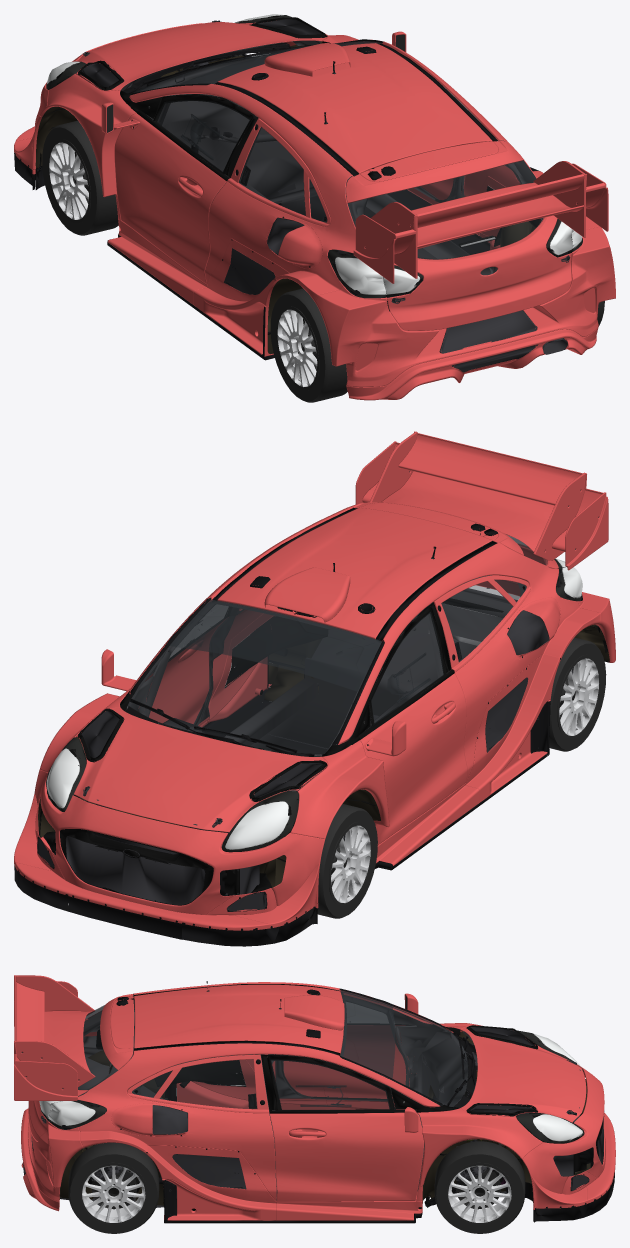
File: puma_rally1.glb
3 renders of one model, top to bottom at view 1: azimuth 30°, elevation 25°; view 2: azimuth 150°, elevation 25°; view 3: azimuth 270°, elevation 25°, orthographic. The views are drawn at different scales.
Parts seen in each view (by area): view 1: Body, Wheel_RL, Wheel_FL; view 2: Body, Wheel_FL, Wheel_RL; view 3: Body, Wheel_FR, Wheel_RR.
Boxes of the visible parts, left/top/right/bottom form: Body: left=14, top=14, right=615, bottom=400; Wheel_RL: left=270, top=288, right=347, bottom=402; Wheel_FL: left=42, top=120, right=118, bottom=235; Body: left=14, top=431, right=615, bottom=946; Wheel_FL: left=317, top=804, right=377, bottom=918; Wheel_RL: left=549, top=637, right=606, bottom=751; Body: left=14, top=975, right=615, bottom=1223; Wheel_FR: left=434, top=1141, right=525, bottom=1233; Wheel_RR: left=68, top=1142, right=159, bottom=1233.
Bounding box in the file's own units: 1.97 × 1.42 × 4.28.
22 materials, 1 textured.
